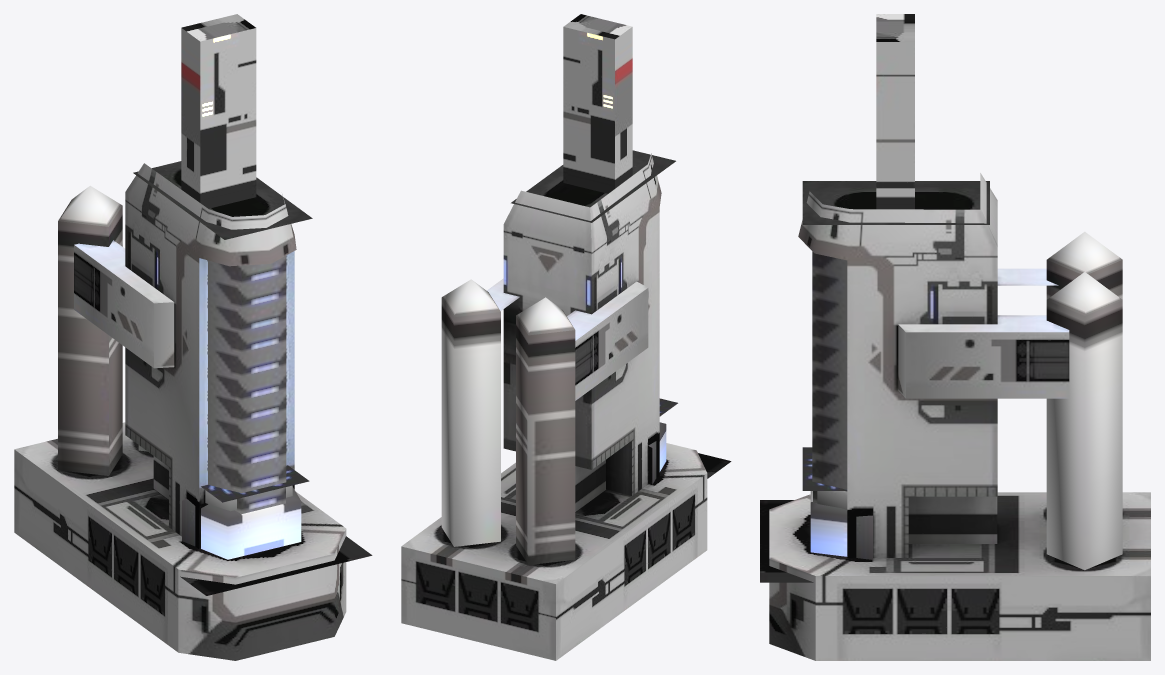
3 renders of one model, left to right at view 1: azimuth 30°, elevation 25°; view 2: azimuth 150°, elevation 25°; view 3: azimuth 270°, elevation 25°, orthographic. The views are drawn at different scales.
Parts seen in each view (by area): view 1: oil-refinery-lod2; view 2: oil-refinery-lod2; view 3: oil-refinery-lod2.
Boxes of the visible parts, bbox=[...] form: oil-refinery-lod2: bbox=[14, 14, 372, 660]; oil-refinery-lod2: bbox=[401, 14, 731, 660]; oil-refinery-lod2: bbox=[760, 14, 1150, 660].
Bounding box in the file's own units: 3.8 × 12.47 × 7.5.
Materials: 1 (1 with a texture image).
